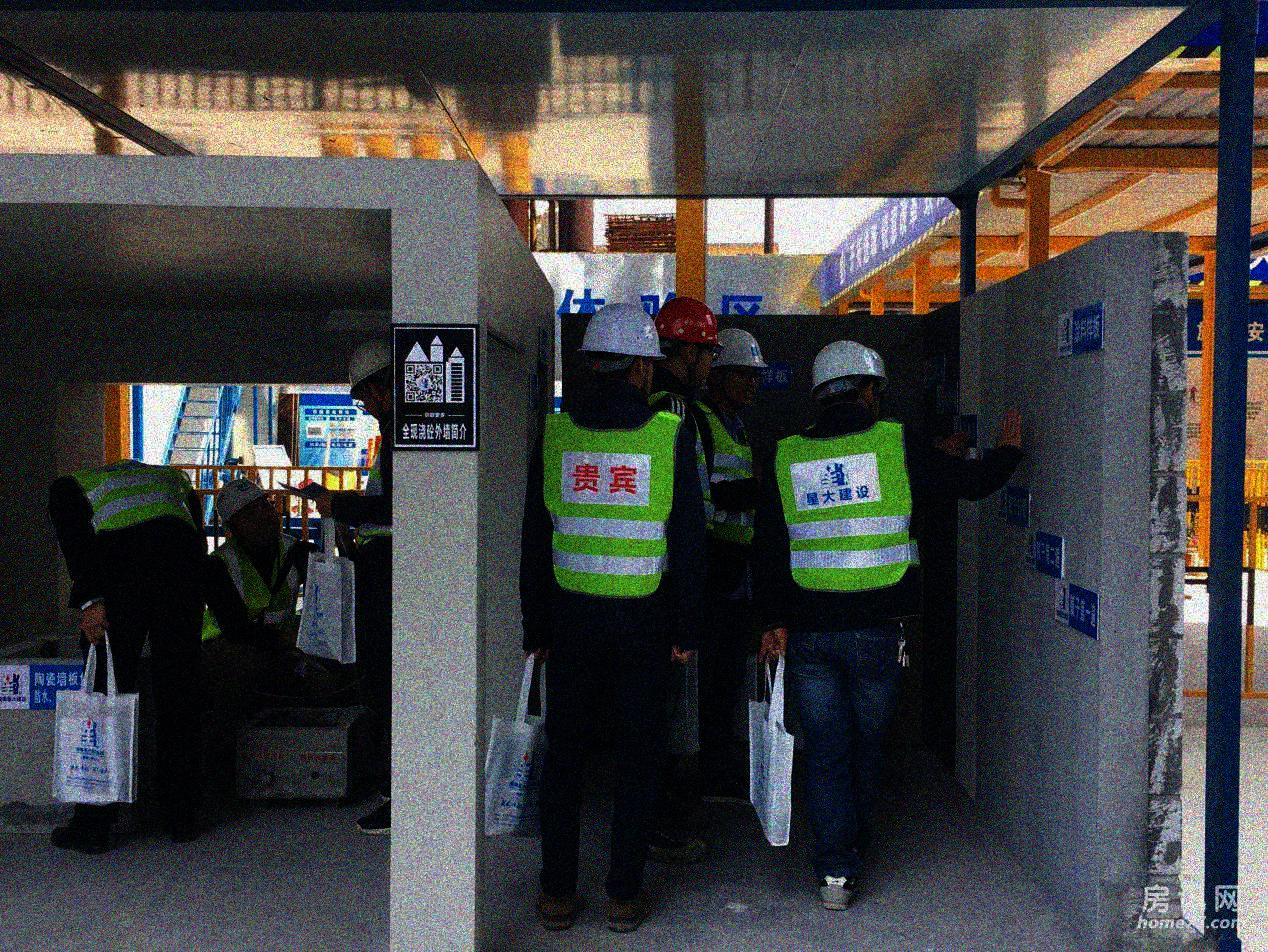helmet: (577, 303, 666, 397), (656, 294, 721, 395), (807, 339, 880, 416), (214, 477, 286, 552), (345, 336, 398, 423), (715, 324, 769, 408)
